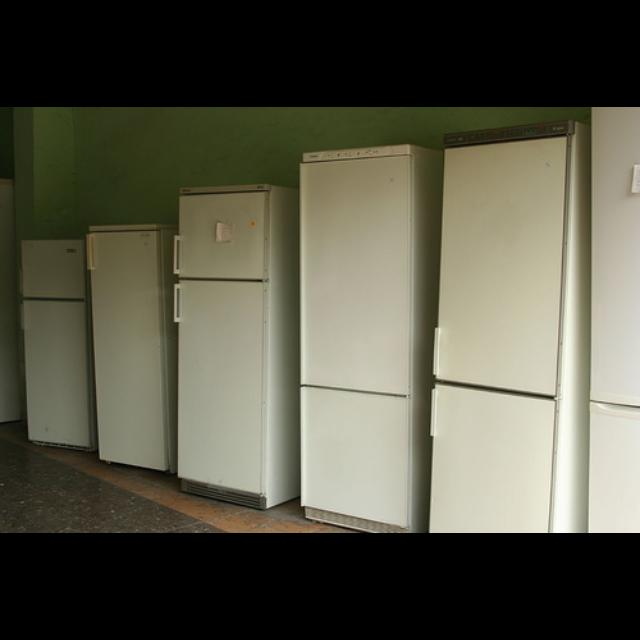Refrigerator: (429, 120, 589, 528), (300, 145, 445, 528), (177, 187, 302, 510), (84, 228, 176, 477), (589, 107, 640, 528), (19, 240, 99, 453)
